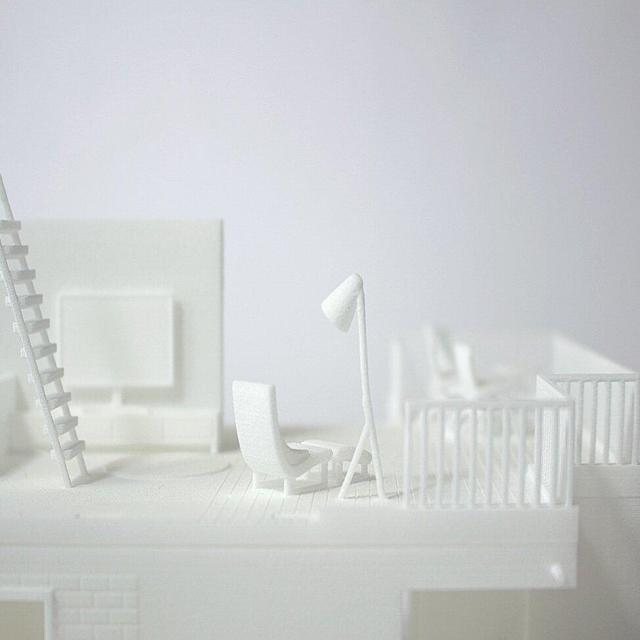Without deffect: (220, 250, 409, 516)
